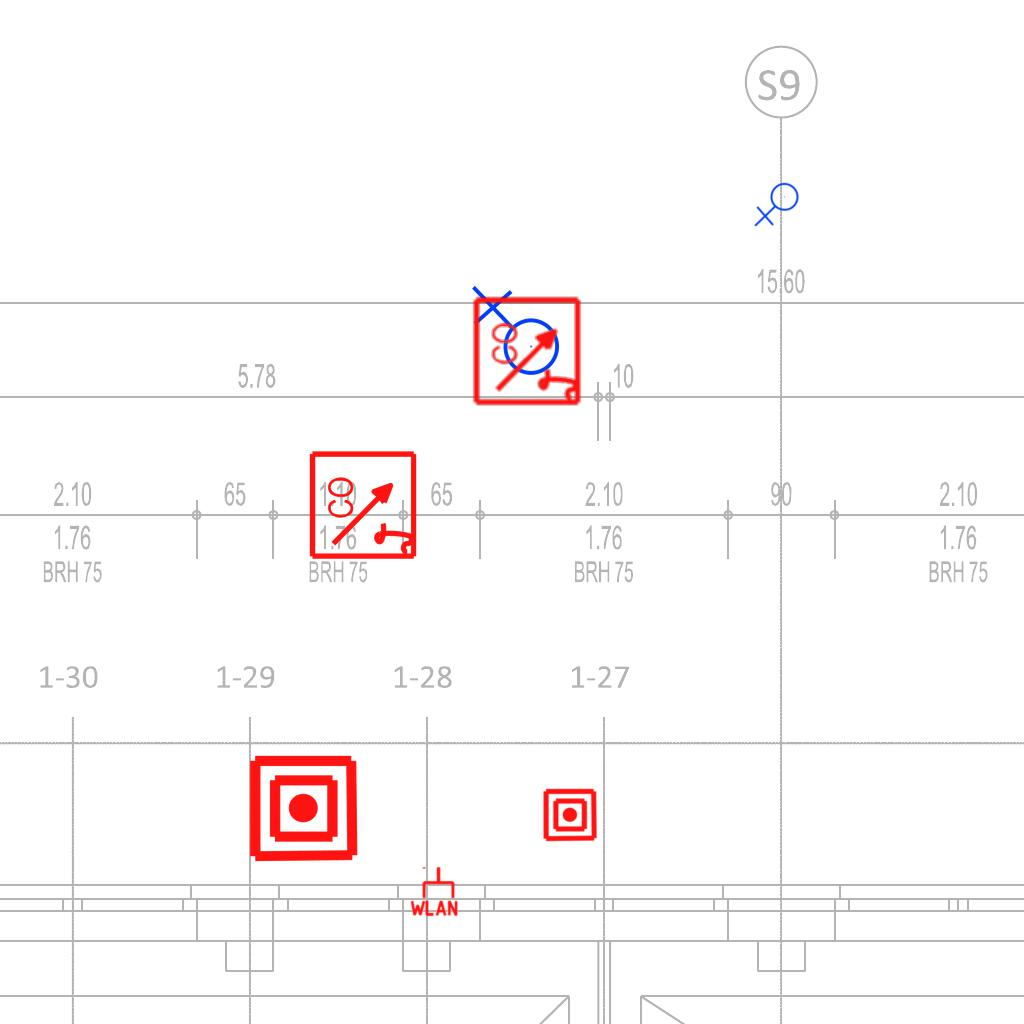Elektroanschluss_allgemein_230V_Geraeteanschlussdose_230V: (467, 285, 561, 384), (754, 182, 803, 229)
NAM-Nichtautomatischer_Melder: (247, 752, 360, 865), (542, 787, 598, 843)
ROA_Rauchmelder_optisch_mit_Signalgeber_(Sockelsirene): (308, 448, 421, 561), (472, 294, 585, 407)
WLAN: (408, 865, 460, 917)
